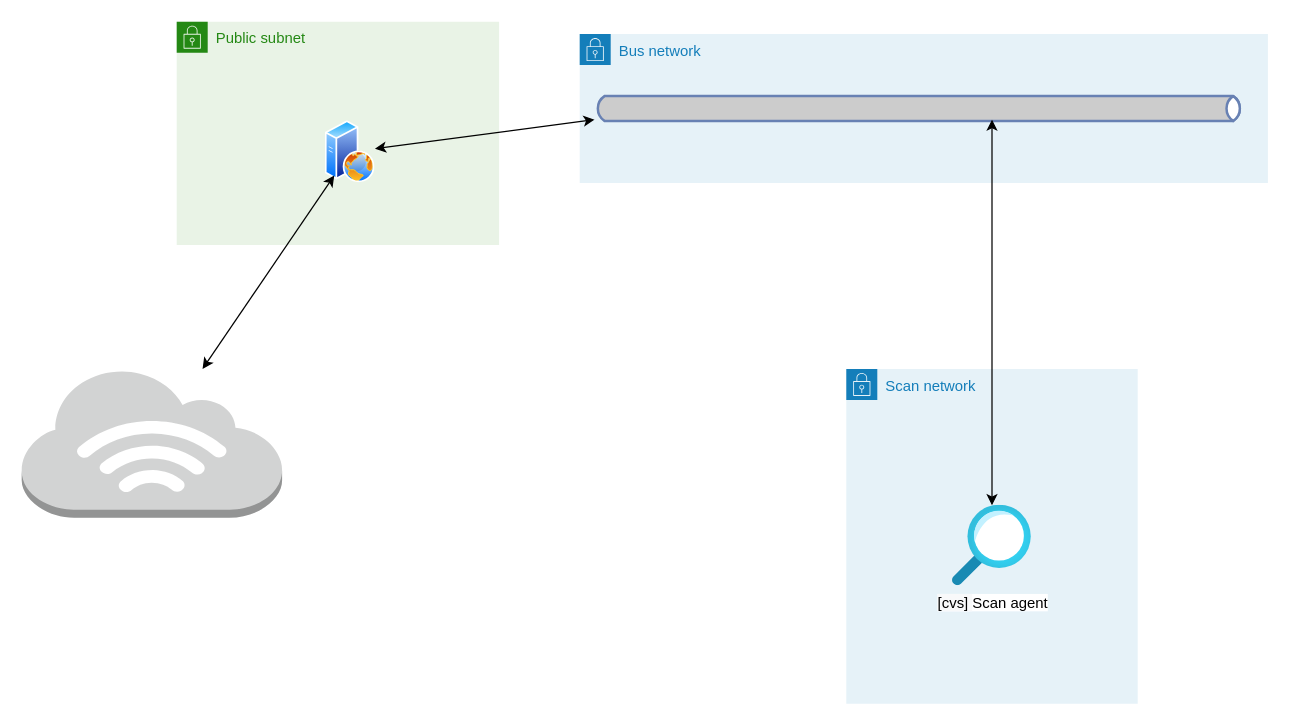
This 1290x725 diagram has some shape labels left out. Here are the shapes that lost their labels. From the top down, the box of each, then its label:
(593, 94, 1244, 122): [nats] Communication Bus
(325, 120, 374, 182): [svc] API
